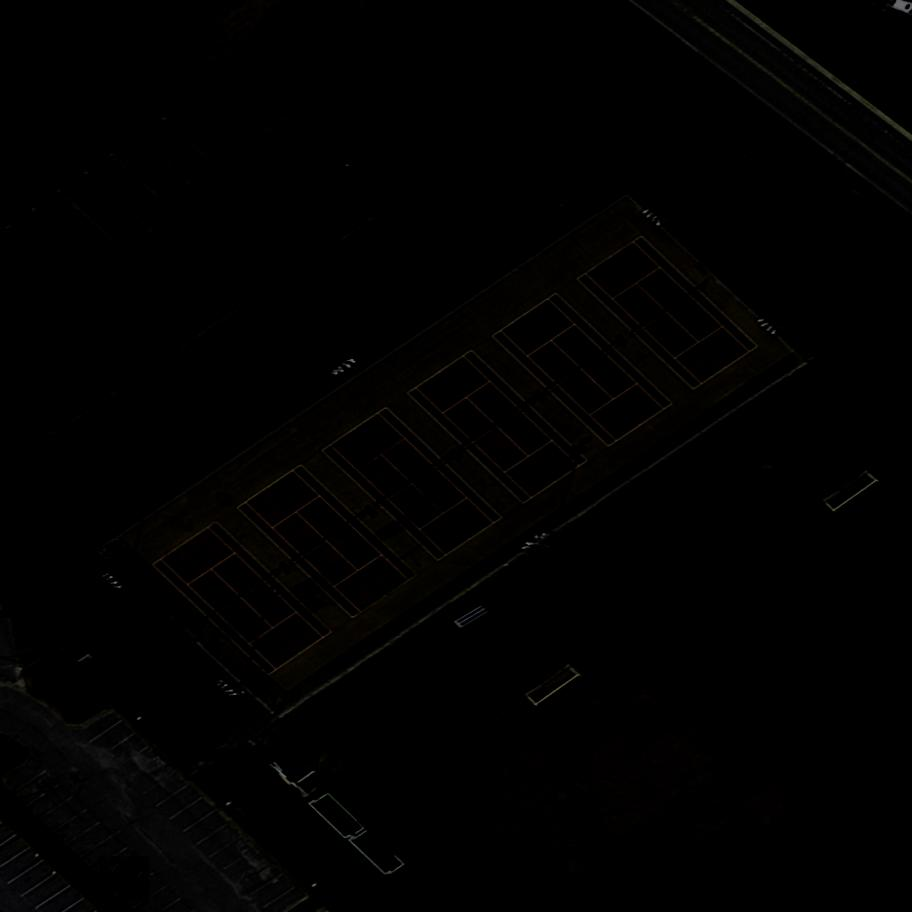small-vehicle: (101, 855, 150, 905)
